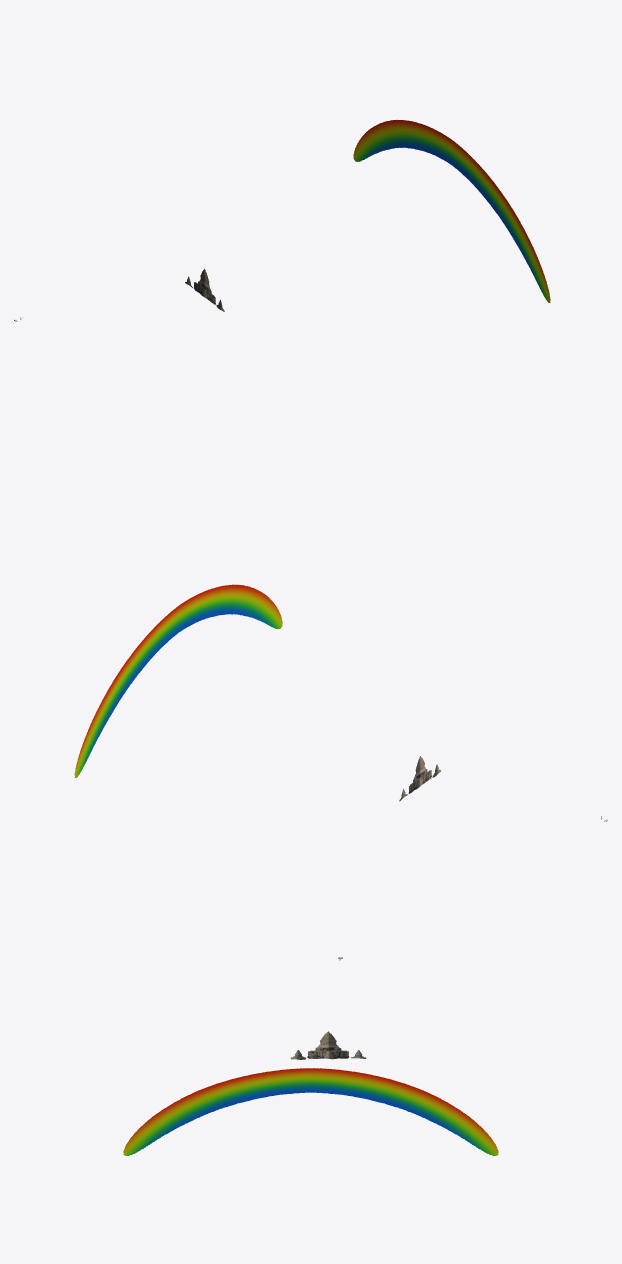
The model's file is PinkFlowertree_Rainbow_Backfort_Collectables.fbx.
The picture shows the model from 3 angles, top to bottom: view 1: azimuth 30°, elevation 25°; view 2: azimuth 150°, elevation 25°; view 3: azimuth 270°, elevation 25°; orthographic projection. The views are drawn at different scales.
Visible parts, largest first — view 1: Rainbow; view 2: Rainbow; view 3: Rainbow, backfort.
Part boxes in pixels (bbox=[...]): Rainbow: bbox=[353, 120, 550, 302]; Rainbow: bbox=[74, 584, 282, 777]; Rainbow: bbox=[123, 1068, 498, 1155]; backfort: bbox=[290, 1031, 365, 1059].
Bounding box in the file's own units: 4487 × 2057 × 5755.
2 materials, 1 textured.
